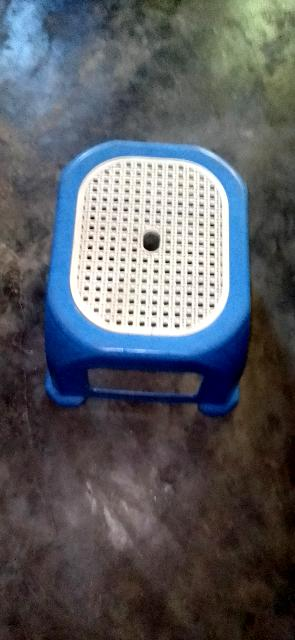hardplastic: (17, 95, 295, 448)
